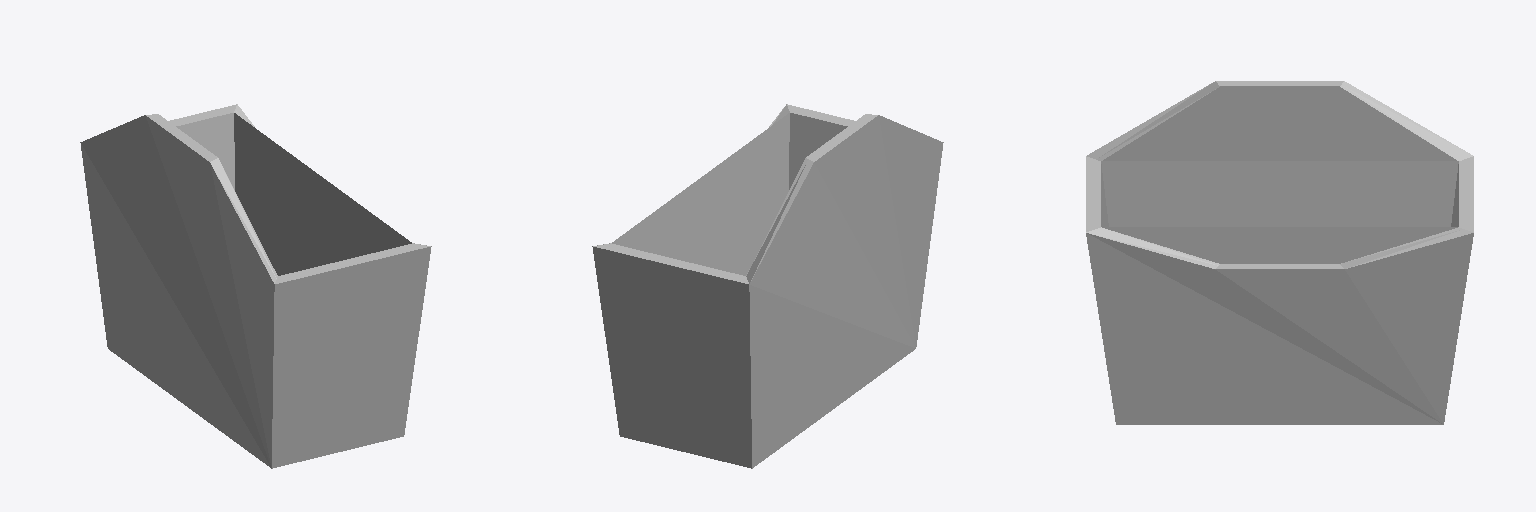
File: papas_bolsa_2.obj
The picture shows the model from 3 angles: view 1: azimuth 30°, elevation 25°; view 2: azimuth 150°, elevation 25°; view 3: azimuth 270°, elevation 25°; orthographic projection.
Parts seen in each view (by area): view 1: Cubo.034_Cubo.047; view 2: Cubo.034_Cubo.047; view 3: Cubo.034_Cubo.047.
Boxes of the visible parts, x1=… form: Cubo.034_Cubo.047: x1=80, y1=104, x2=431, y2=468; Cubo.034_Cubo.047: x1=592, y1=104, x2=943, y2=468; Cubo.034_Cubo.047: x1=1086, y1=81, x2=1473, y2=424.
Size of the model in its own units: 0.0829 by 0.1378 by 0.1776.